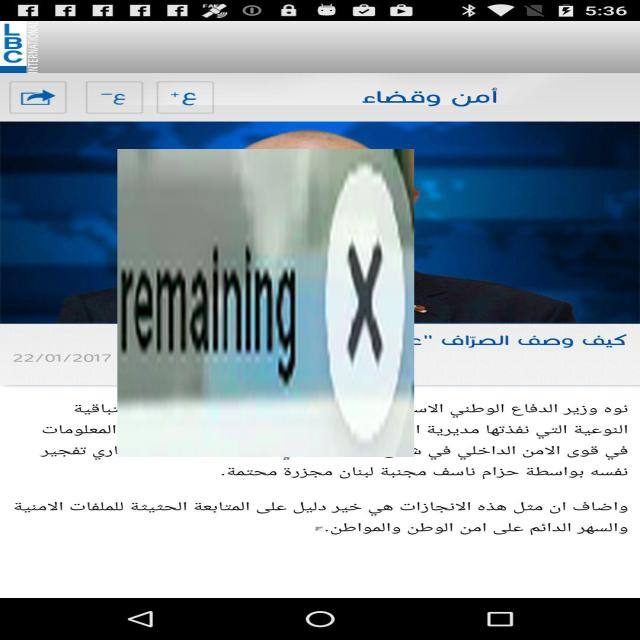misdirection: (118, 149, 414, 457)
